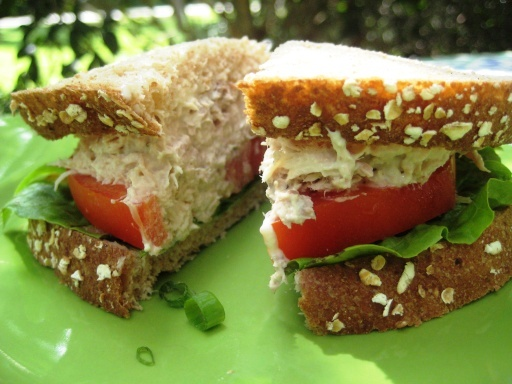background: (0, 23, 410, 202), (54, 31, 180, 199)
